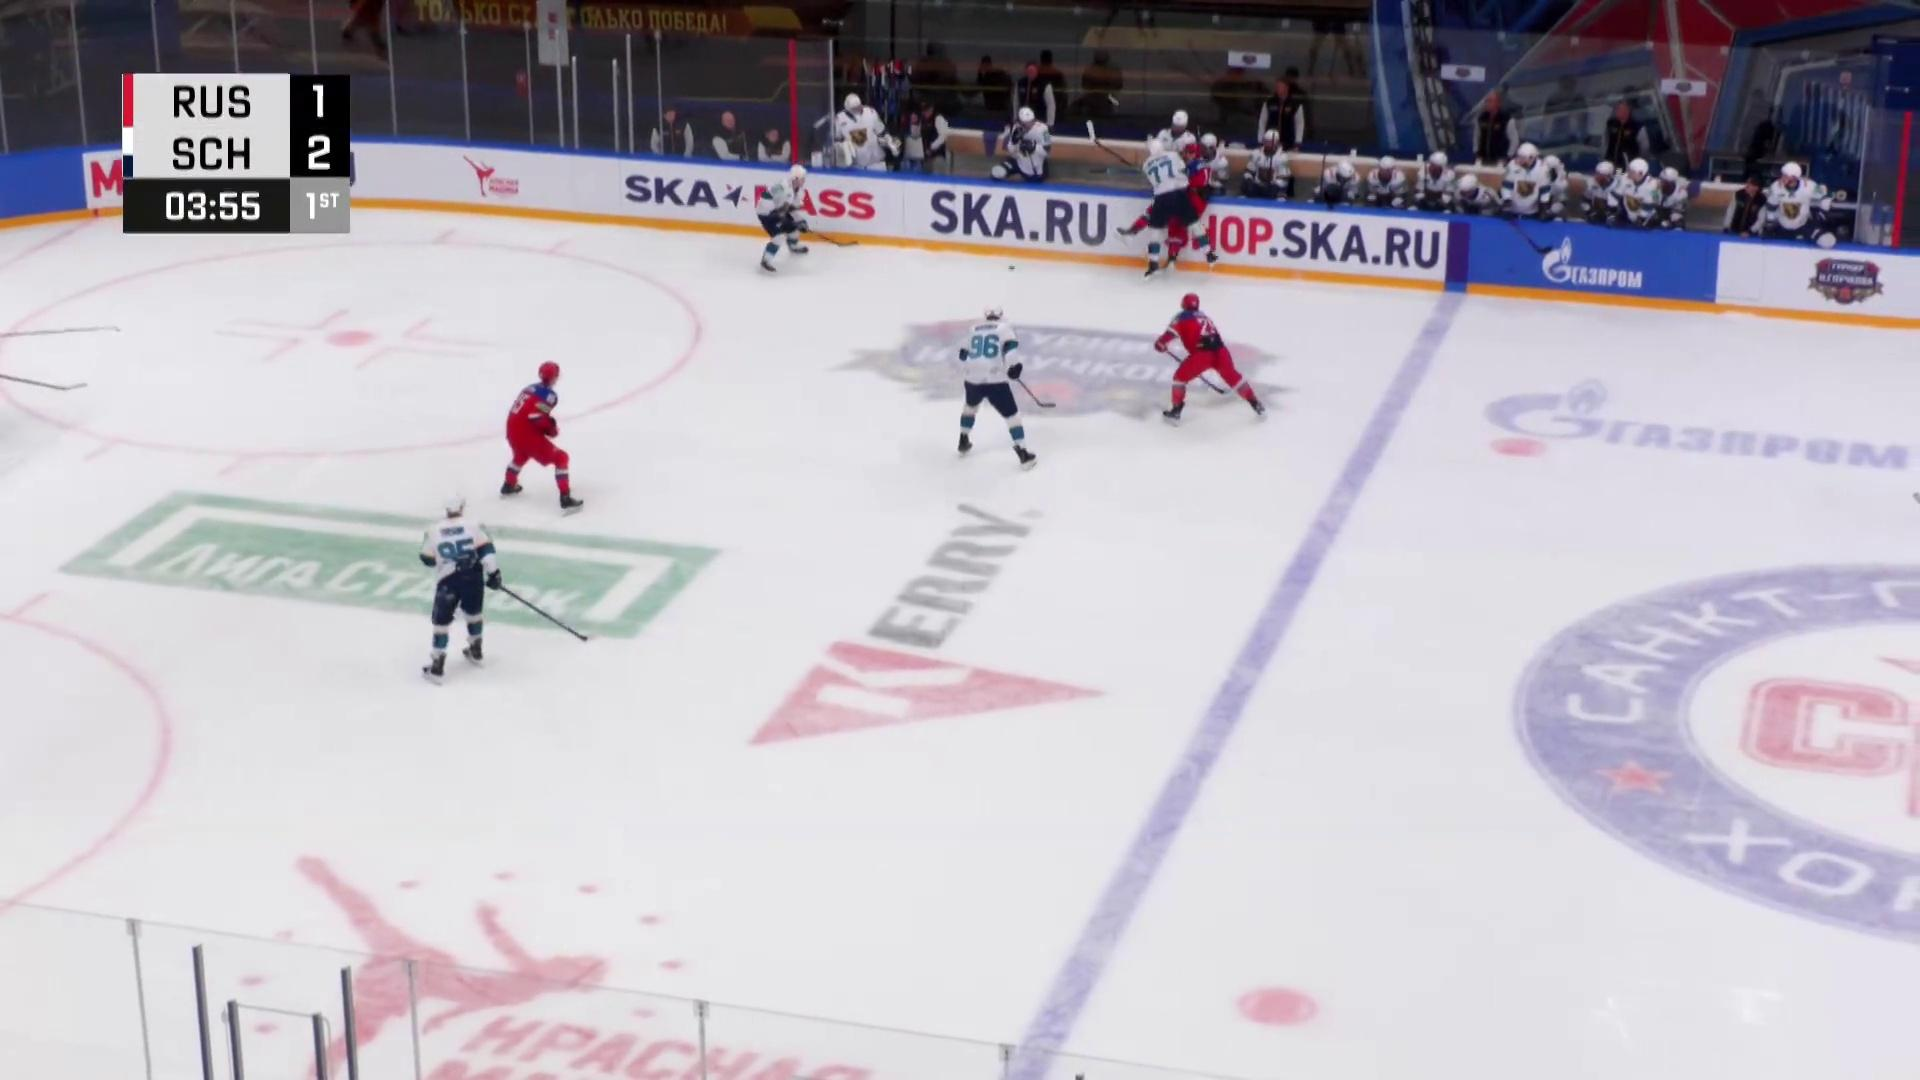ball: (1009, 265, 1015, 270)
